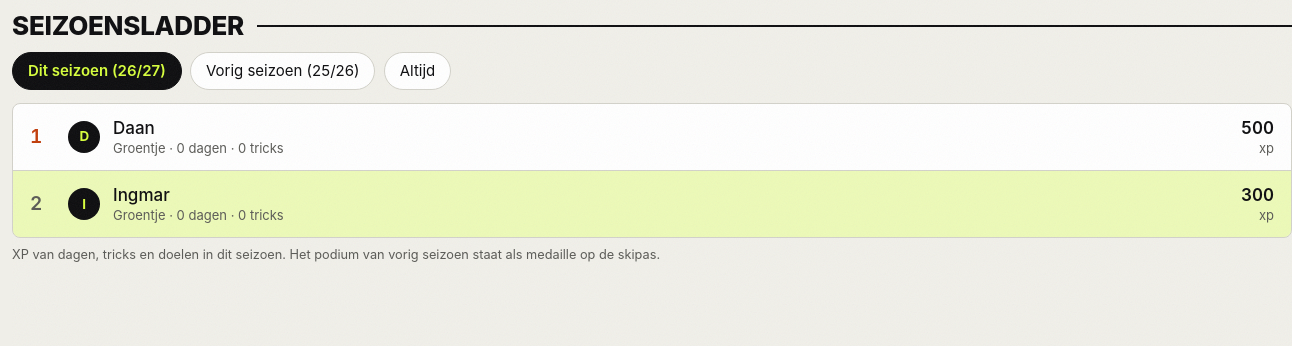
it: leaderboard op de crew-pagina › opent op dit seizoen; vorig seizoen en altijd te kiezen
The image size is (1292, 346).
What coordinates should you click on to do the following:
click the button "Vorig seizoen (25/26)"
I would click on:
 (283, 71)
Its box is [190,52,375,90].
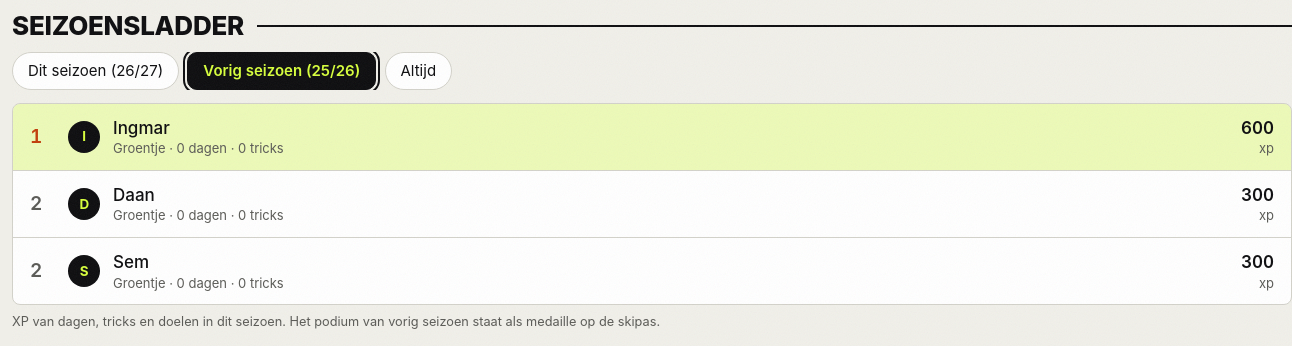
Expected: the number of links is 3, [30,118,1274,156]; [30,185,1274,224]; [30,252,1274,291]
What coordinates should you click on to do the following:
click the button "Altijd"
I would click on:
 (418, 71)
Its box is [385,52,452,90].
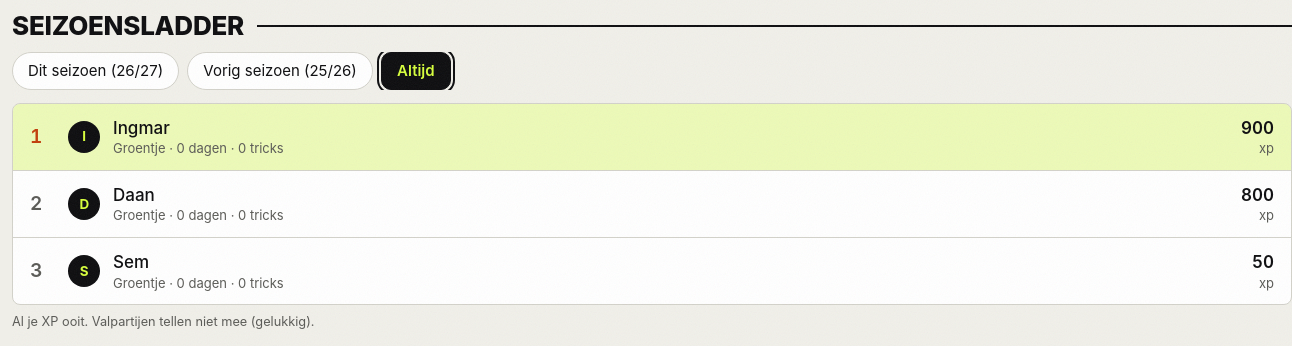
Expected: the link "1 I Ingmar Groentje · 0 dagen · 0 tricks 900 xp" is shown, [30,118,1274,156]
